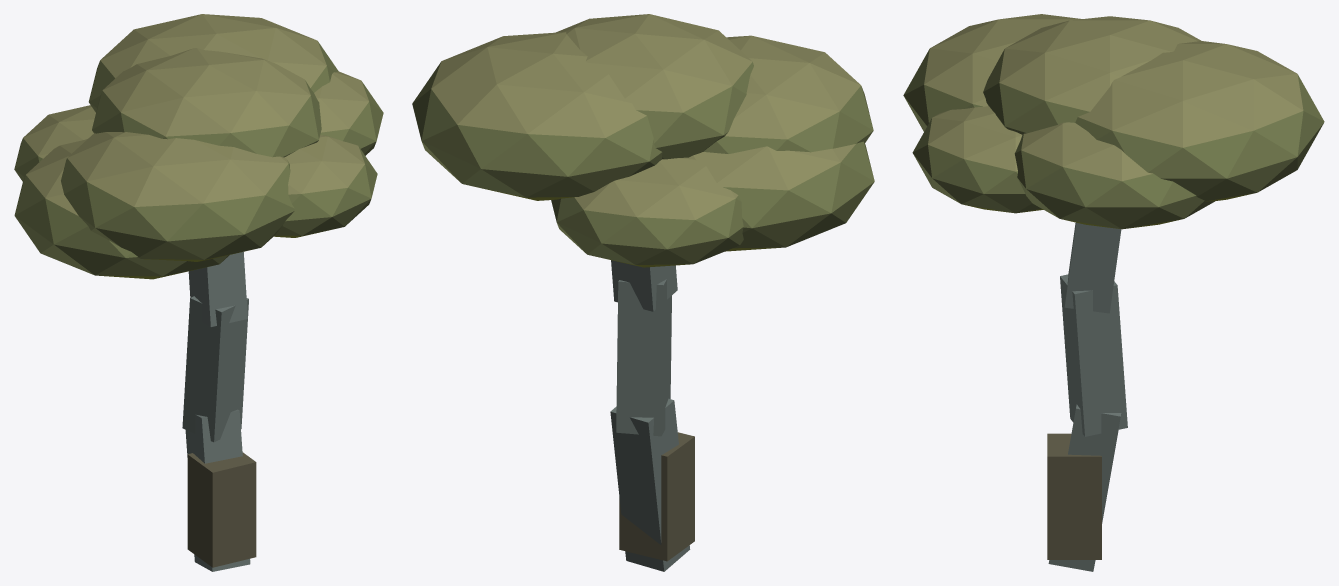
The model's file is SM_Pino_v1_LOD0.fbx.
The picture shows the model from 3 angles, left to right: view 1: azimuth 30°, elevation 25°; view 2: azimuth 150°, elevation 25°; view 3: azimuth 270°, elevation 25°; orthographic projection. The views are drawn at different scales.
Visible parts, largest first — view 1: SM_pino_v1_LOD0; view 2: SM_pino_v1_LOD0; view 3: SM_pino_v1_LOD0.
Part boxes in pixels (x1,y1,x2,y2): SM_pino_v1_LOD0: [14, 14, 383, 571]; SM_pino_v1_LOD0: [412, 14, 874, 571]; SM_pino_v1_LOD0: [903, 14, 1324, 571].
Bounding box in the file's own units: 3.85 × 5.13 × 3.71.
